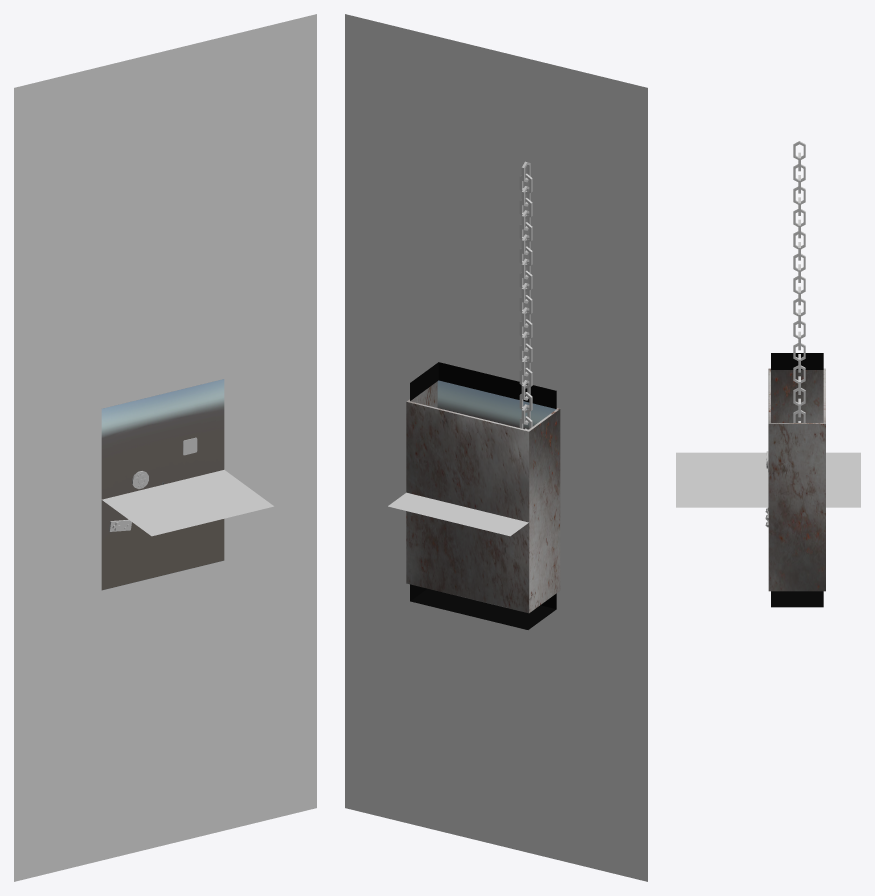
File: AR_Quest1.fbx
The picture shows the model from 3 angles, left to right: view 1: azimuth 30°, elevation 25°; view 2: azimuth 150°, elevation 25°; view 3: azimuth 270°, elevation 25°; orthographic projection. The views are drawn at different scales.
Visible parts, largest first — view 1: Mask, SheetUp, SheetDown, Sheet; view 2: Mask, box, Chain, SheetUp, Sheet; view 3: box, Sheet, Chain.
Part boxes in pixels (box(x1,y1,x2,y2)): Mask: box(14, 14, 316, 881); SheetUp: box(101, 379, 224, 499); SheetDown: box(101, 500, 224, 590); Sheet: box(102, 470, 273, 536); Mask: box(345, 14, 647, 881); box: box(406, 362, 560, 629); Chain: box(519, 161, 532, 429); SheetUp: box(437, 380, 556, 429); Sheet: box(388, 492, 528, 536); box: box(768, 353, 825, 607); Sheet: box(676, 452, 860, 507); Chain: box(793, 141, 805, 422).
Bounding box in the file's own units: 518 × 1298 × 297.
